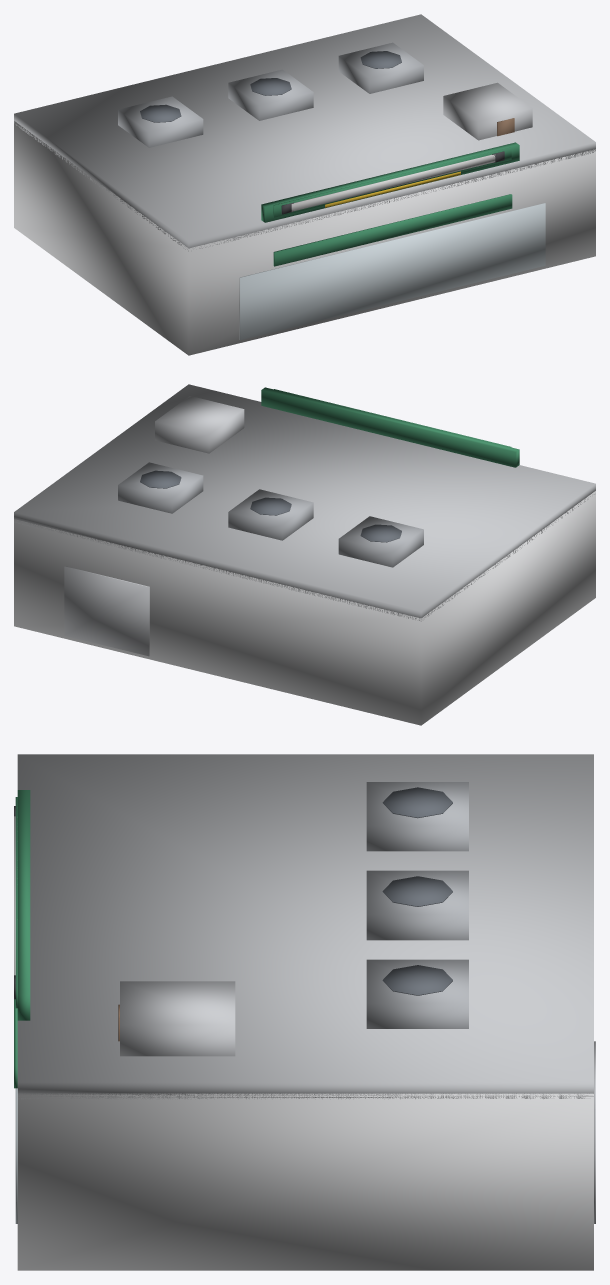
File: grocery-store.glb
3 views of the same model, one above another, from view 1: azimuth 30°, elevation 25°; view 2: azimuth 150°, elevation 25°; view 3: azimuth 270°, elevation 25° (orthographic). The views are drawn at different scales.
Parts seen in each view (by area): view 1: world; view 2: world; view 3: world.
Part boxes in pixels (box(x1,y1,x2,y2)): world: box(14, 14, 595, 355); world: box(14, 384, 595, 725); world: box(14, 754, 595, 1270).
Bounding box in the file's own units: 24 × 7.5 × 18.
